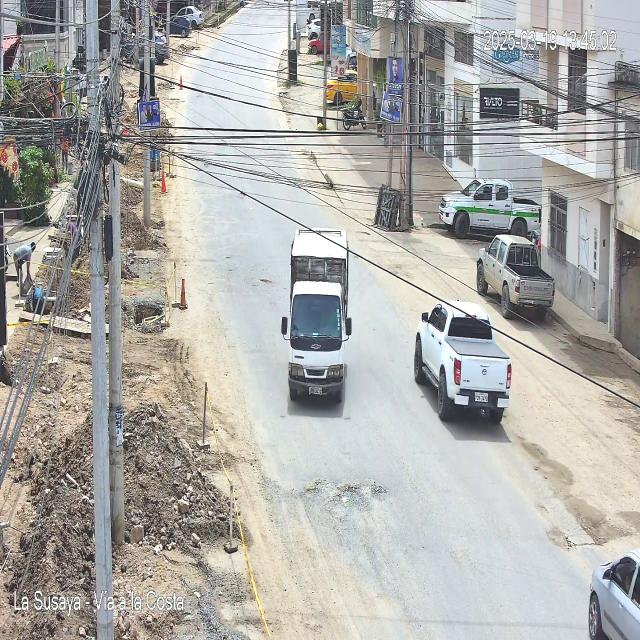CMT: (414, 302, 512, 424), (477, 235, 555, 323), (440, 178, 539, 240)
TRUCK: (281, 229, 352, 409)
